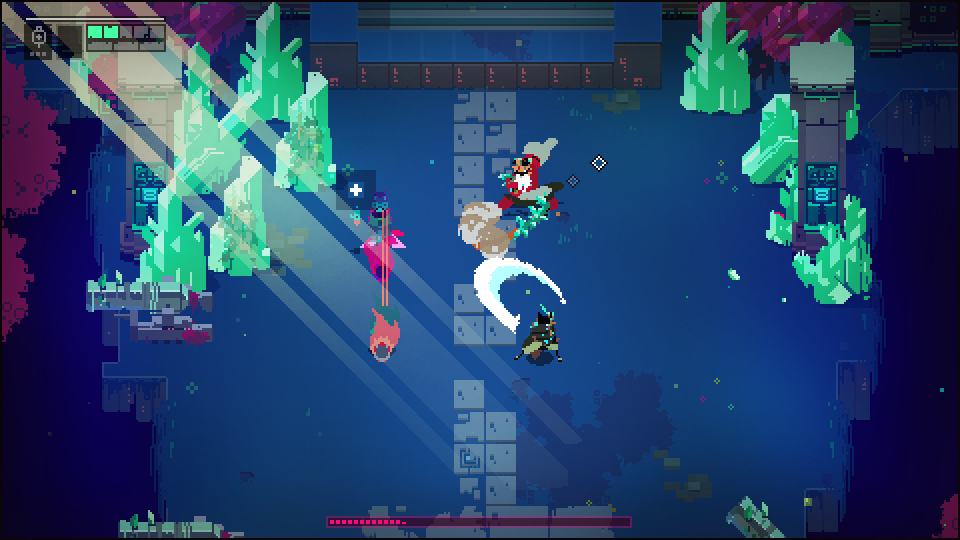hanged_man: (478, 133, 563, 247)
player: (365, 305, 405, 365)
